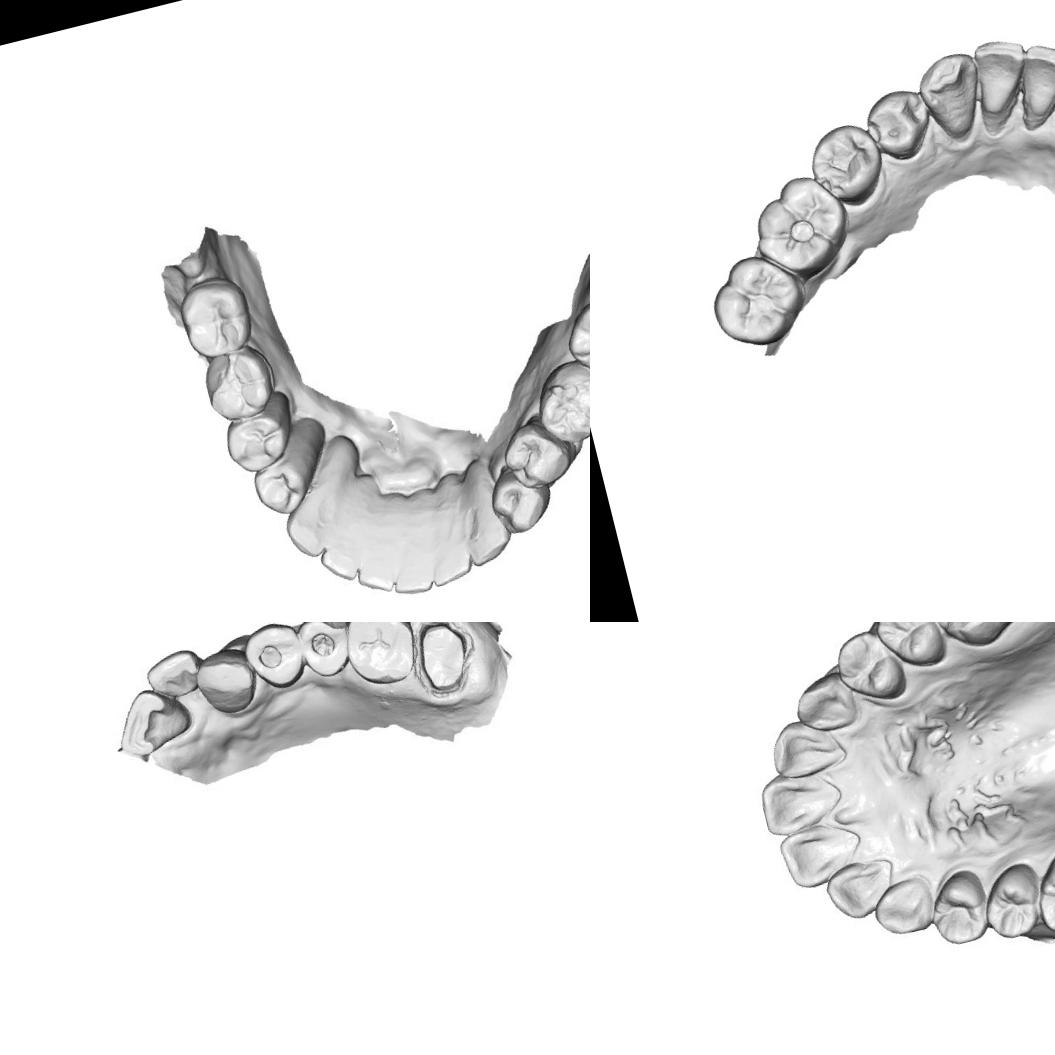canine: (912, 48, 991, 147), (450, 459, 516, 565), (192, 645, 260, 720), (867, 874, 940, 941), (279, 490, 344, 564), (795, 672, 861, 734)
crown: (409, 622, 481, 696)
incisor: (107, 677, 200, 764), (775, 816, 866, 884), (967, 31, 1038, 118), (759, 770, 846, 840), (820, 858, 898, 926), (773, 720, 848, 786), (1008, 36, 1055, 122), (141, 646, 206, 700), (352, 530, 408, 592), (316, 524, 370, 582), (386, 548, 436, 597), (428, 534, 474, 584)
molar: (740, 166, 860, 289), (699, 243, 814, 355), (178, 276, 250, 359), (200, 345, 276, 420), (339, 622, 418, 689), (536, 358, 590, 443), (911, 622, 1017, 649), (560, 296, 590, 379)
premolar: (802, 116, 890, 215), (860, 82, 940, 167), (972, 860, 1046, 942), (834, 630, 904, 705), (926, 868, 994, 943), (243, 622, 312, 694), (224, 403, 292, 472), (506, 423, 575, 490), (488, 464, 552, 534), (293, 622, 356, 685), (252, 454, 313, 514), (1029, 842, 1055, 948), (878, 622, 942, 665)
